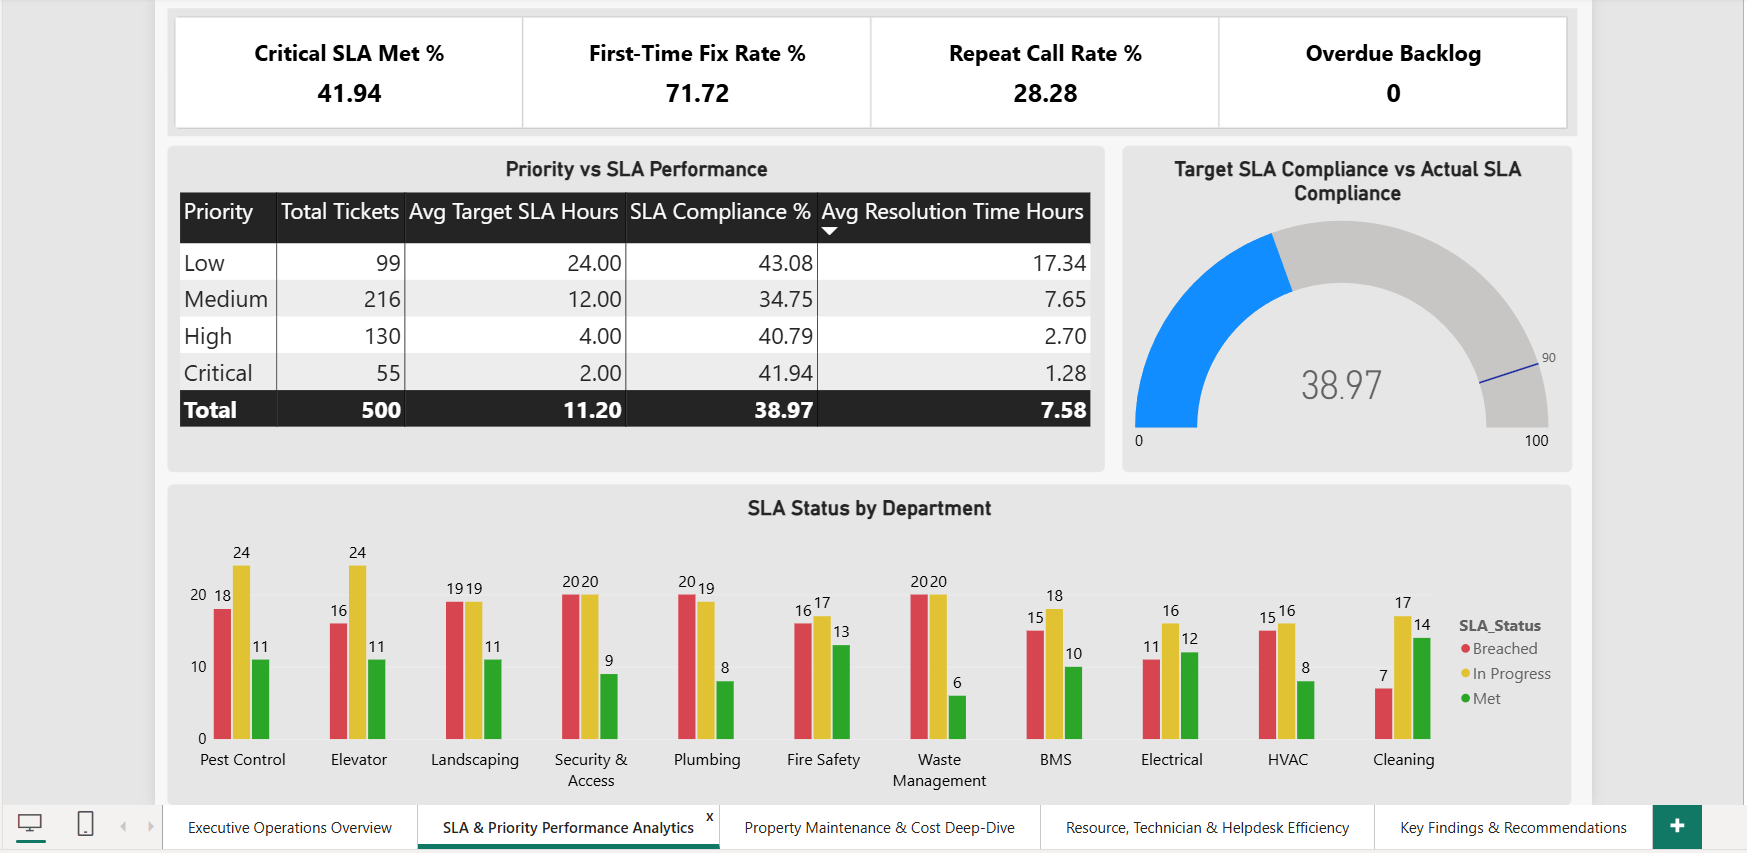

The page's visual inventory and layout, read from the dashboard file:
{"tool":"powerbi","page":{"name":"SLA & Priority Performance Analytics","canvas":[1920,1080],"ordinal":1},"visuals":[{"type":"shape","box":[16.5,14.4,1883.4,170.8],"z":0},{"type":"cardVisual","fields":{"Data":["_Measures.Critical SLA Met %","_Measures.First-Time Fix Rate %","_Measures.Repeat Call Rate %","_Measures.Overdue Backlog"]},"box":[24.7,24.7,1866.9,152.3],"z":1000},{"type":"pivotTable","title":"Priority vs SLA Performance","fields":{"Rows":["CAFM_Master_Enterprise_Dataset_500.Priority"],"Values":["_Measures.Total Tickets","_Measures.Avg Target SLA Hours","_Measures.SLA Compliance %","_Measures.Avg Resolution Time Hours"]},"box":[16.3,199.1,1252.3,436.1],"z":2000},{"type":"clusteredColumnChart","title":"SLA Status by Department","fields":{"Category":["CAFM_Master_Enterprise_Dataset_500.Department"],"Series":["CAFM_Master_Enterprise_Dataset_500.SLA_Status"],"Y":["_Measures.Total Tickets"]},"box":[16.5,671,1904,409.6],"z":3000},{"type":"gauge","title":"Target SLA Compliance vs Actual SLA Compliance","fields":{"TargetValue":["_Measures.SLA Target %"],"Y":["_Measures.SLA Compliance %"]},"box":[1292.6,199.7,599,436.4],"z":4000}]}

Visuals, with their boxes on the page's 1920x1080 design canvas (x1, y1, x2, y2). These are canvas units, not pixel positions in the 1747x853 screenshot, which may show the page scaled, cropped or inside an application window:
shape: {"left": 16, "top": 14, "right": 1900, "bottom": 185}
cardVisual - _Measures.Critical SLA Met % x _Measures.First-Time Fix Rate %: {"left": 25, "top": 25, "right": 1892, "bottom": 177}
"Priority vs SLA Performance" pivotTable: {"left": 16, "top": 199, "right": 1269, "bottom": 635}
"SLA Status by Department" clusteredColumnChart: {"left": 16, "top": 671, "right": 1920, "bottom": 1081}
"Target SLA Compliance vs Actual SLA Compliance" gauge: {"left": 1293, "top": 200, "right": 1892, "bottom": 636}
